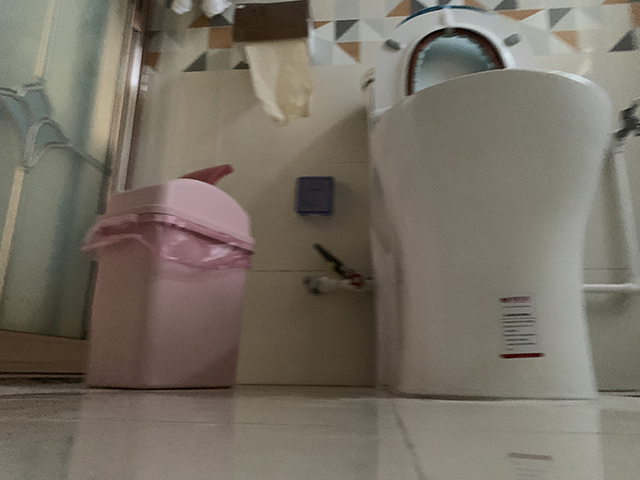closestool: (360, 4, 613, 402)
trashcan: (80, 163, 257, 390)
